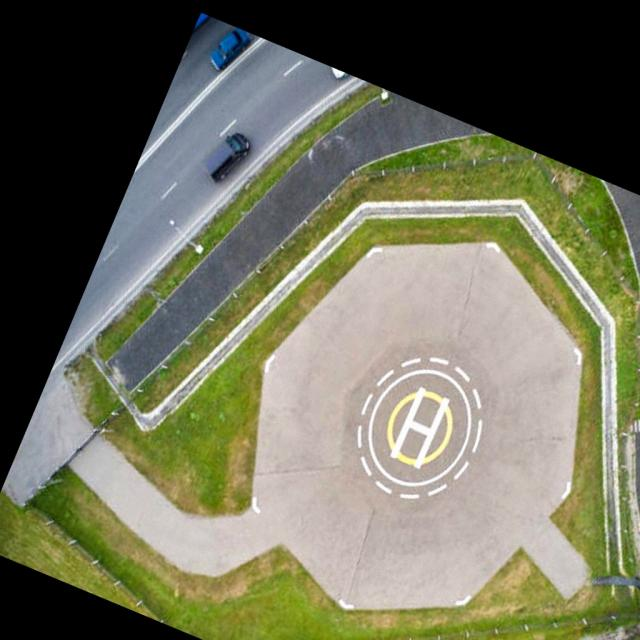helipad: (364, 368, 474, 490)
